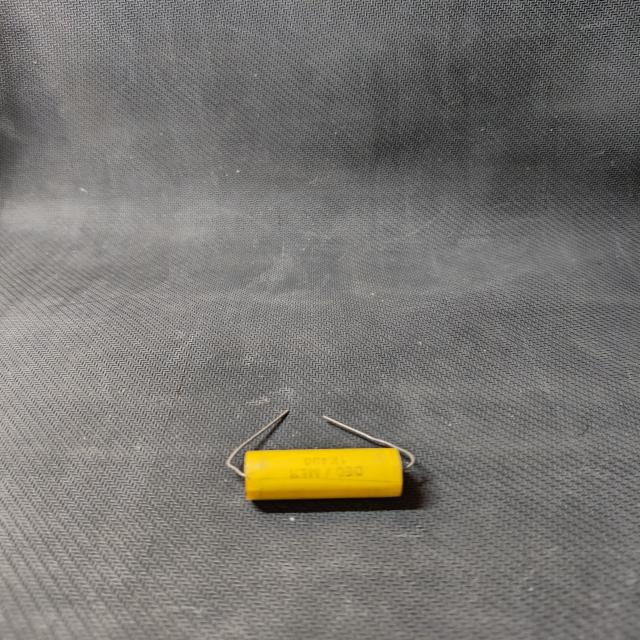capacitor: (208, 403, 430, 511)
